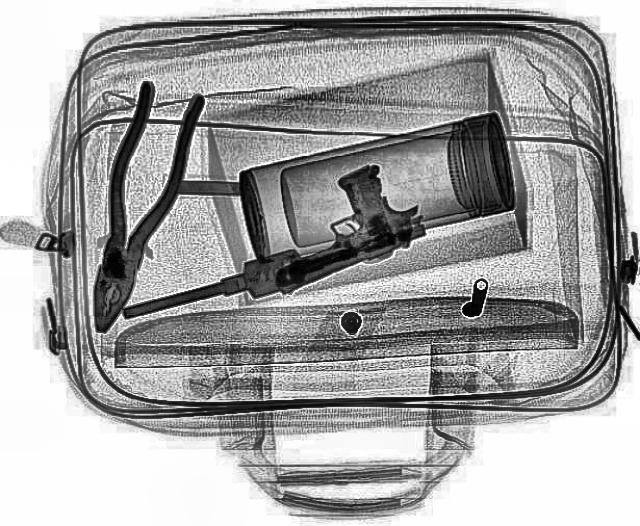Gun: (227, 156, 438, 298)
Pliers: (64, 80, 208, 338)
